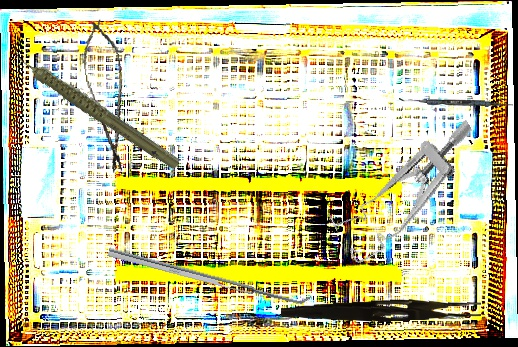Dressing Forceps: (280, 294, 482, 328)
Handpiece: (8, 14, 183, 199)
Micro Scissor: (77, 17, 137, 175)
Spatula Surgical: (107, 239, 312, 310), (398, 98, 514, 107)
Speculum: (319, 117, 503, 267)
